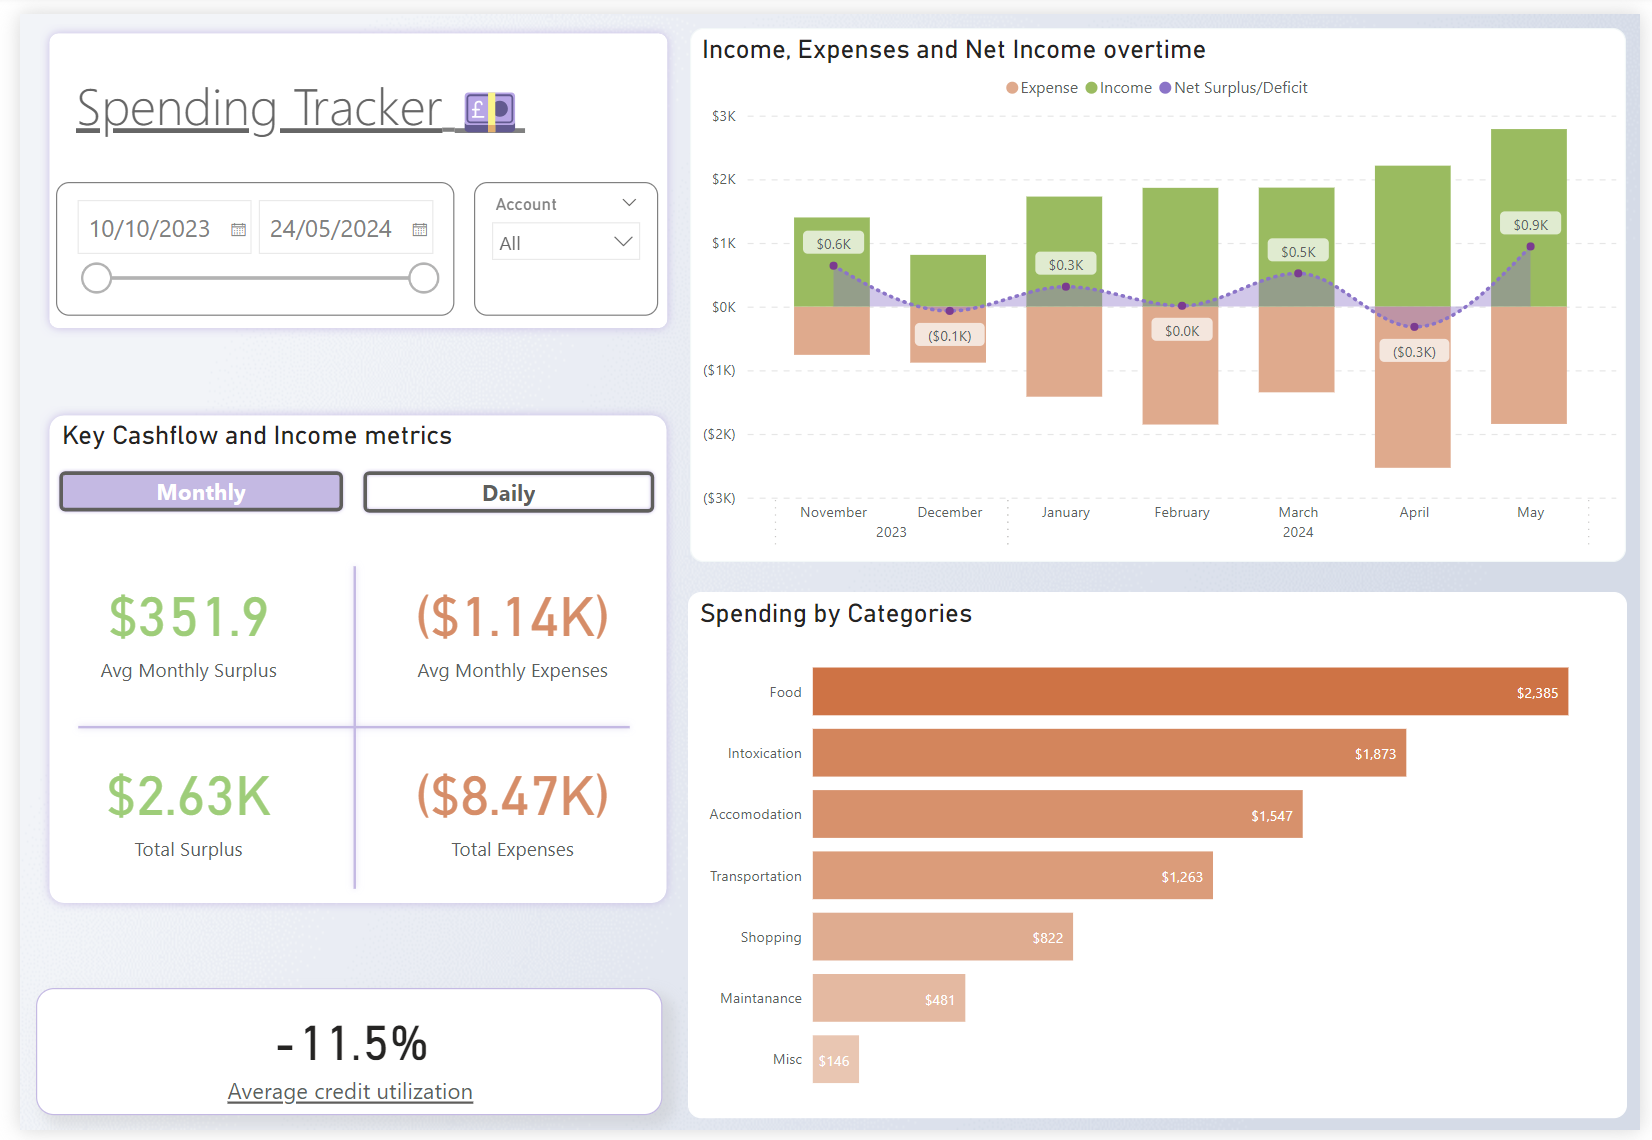

What the dashboard file says about the page in this screenshot:
{"tool":"powerbi","page":{"name":"Page 1","canvas":[1350,930],"ordinal":0},"visuals":[{"type":"shape","title":"Title Shape","box":[16,8,530.6,261.3],"z":0,"group":"g4"},{"type":"slicer","fields":{"Values":["Master_Dataset_final.Date"]},"box":[30.1,139.2,332.2,111.7],"z":0,"group":"g1"},{"type":"cardVisual","fields":{"Data":["Master_Dataset_final.Daily_average_expense","Sum(Master_Dataset_final.Transaction_amount)"]},"box":[282,443,252.7,298.2],"z":0,"group":"g3"},{"type":"clusteredBarChart","title":"Spending by Categories","fields":{"Category":["Category_table.Parent_category"],"Y":["Sum(Master_Dataset_final.Abs_amount)"]},"box":[556.5,482.3,782.3,438.7],"z":0},{"type":"lineStackedColumnComboChart","title":"Income, Expenses and Net Income overtime","fields":{"Y":["Sum(Master_Dataset_final.Transaction_amount)"],"Series":["Master_Dataset_final.Type"],"Y2":["Sum(Master_Dataset_final.Transaction_amount)"],"Category":["Master_Dataset_final.Date.Variation.Date Hierarchy.Year","Master_Dataset_final.Date.Variation.Date Hierarchy.Month"]},"box":[558.3,11.8,780.1,445.2],"z":1000},{"type":"group","id":"g1","title":"Slicers","box":[30.1,139.2,502.5,111.7],"z":1000,"group":"g4"},{"type":"slicer","fields":{"Values":["Master_Dataset_final.Account"]},"box":[379,139.2,153.6,111.7],"z":1000,"group":"g1"},{"type":"shape","title":"KPI Shape","box":[16.5,327.3,530,422],"z":1000,"group":"g2"},{"type":"cardVisual","fields":{"Data":["Master_Dataset_final.Daily_Average_Surplus","Sum(Master_Dataset_final.Transaction_amount)"]},"box":[14.7,443,251.2,298.2],"z":1000,"group":"g3"},{"type":"textbox","title":"KPI title","box":[30.5,333.3,410,36],"z":1500,"group":"g2"},{"type":"textbox","title":"Title","box":[41,41.3,448.3,95],"z":2000,"group":"g4"},{"type":"card","title":"Credit utiliization","fields":{"Values":["Master_Dataset_final.credit_utlization"]},"box":[14,812,522,106],"z":2000},{"type":"group","id":"g2","title":"KPI shape","box":[16.5,327.3,530,422],"z":3000},{"type":"shape","title":"Line vertical","box":[264.7,454.8,27.9,279.2],"z":3500},{"type":"shape","title":"Line Horizontal","box":[43.5,455.5,470,278.6],"z":3750},{"type":"group","id":"g3","title":"Daily Expense","box":[14.7,443,520,298.2],"z":5000},{"type":"actionButton","title":"Daily button on","box":[287.1,378.8,242.6,39.4],"z":6000},{"type":"actionButton","title":"Monthly button off","box":[30,378,248,40],"z":8000},{"type":"group","id":"g4","title":"Title","box":[16,8,530.6,261.3],"z":10000}]}

Visuals, with their boxes in screenshot pixels (x1, y1, x2, y2), scaled from the page's 1350x930 canvas onto the 1652x1140 screenshot:
"Title Shape" shape: detection(20, 10, 669, 330)
slicer - Master_Dataset_final.Date: detection(37, 171, 443, 308)
cardVisual - Master_Dataset_final.Daily_average_expense x Sum(Master_Dataset_final.Transaction_amount): detection(345, 543, 654, 909)
"Spending by Categories" clusteredBarChart: detection(681, 591, 1638, 1129)
"Income, Expenses and Net Income overtime" lineStackedColumnComboChart: detection(683, 14, 1638, 560)
"Slicers" group: detection(37, 171, 652, 308)
slicer - Master_Dataset_final.Account: detection(464, 171, 652, 308)
"KPI Shape" shape: detection(20, 401, 669, 918)
cardVisual - Master_Dataset_final.Daily_Average_Surplus x Sum(Master_Dataset_final.Transaction_amount): detection(18, 543, 325, 909)
"KPI title" textbox: detection(37, 409, 539, 453)
"Title" textbox: detection(50, 51, 599, 167)
"Credit utiliization" card: detection(17, 995, 656, 1125)
"KPI shape" group: detection(20, 401, 669, 918)
"Line vertical" shape: detection(324, 557, 358, 900)
"Line Horizontal" shape: detection(53, 558, 628, 900)
"Daily Expense" group: detection(18, 543, 654, 909)
"Daily button on" actionButton: detection(351, 464, 648, 513)
"Monthly button off" actionButton: detection(37, 463, 340, 512)
"Title" group: detection(20, 10, 669, 330)
